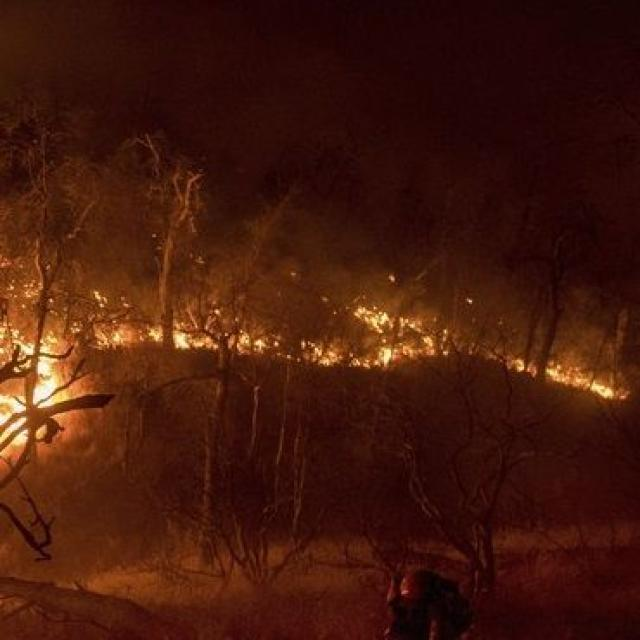Fire: (0, 302, 168, 440), (320, 306, 524, 366)
